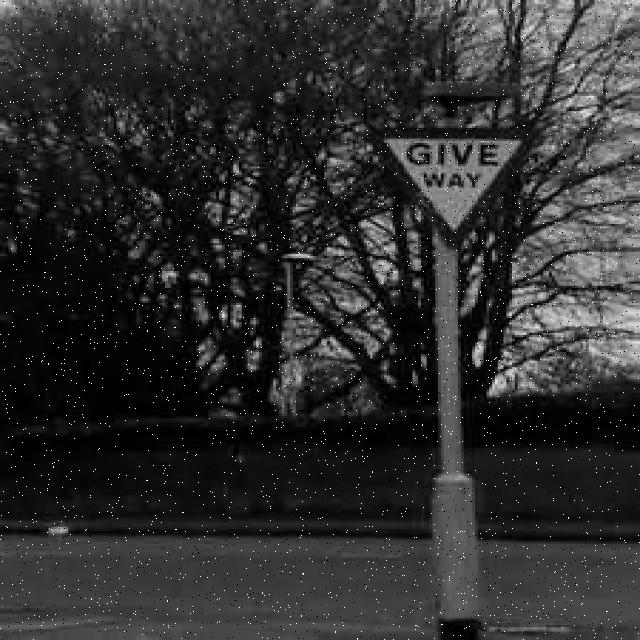giveway: (378, 117, 545, 245)
